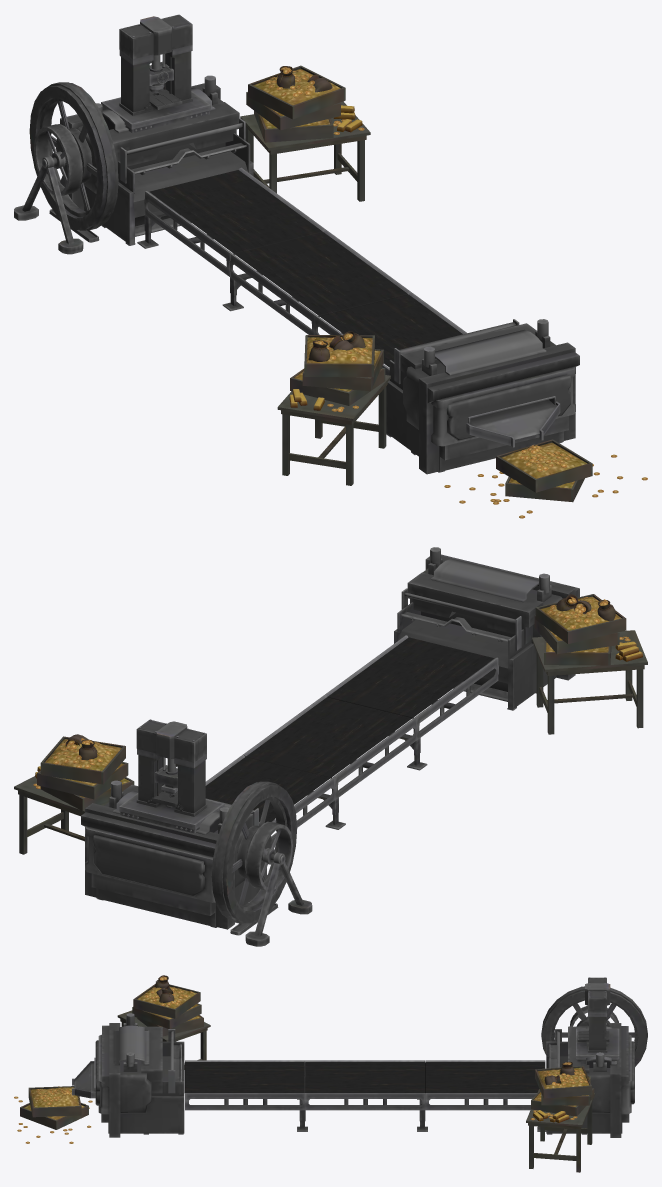
Rendered from SK_MintingMachine_bf97ab.glb.
3 renders of one model, top to bottom at view 1: azimuth 30°, elevation 25°; view 2: azimuth 150°, elevation 25°; view 3: azimuth 270°, elevation 25°, orthographic. The views are drawn at different scales.
Size of the model in its own units: 7.39 by 3.5 by 15.83.
Materials: 3 (3 with a texture image).
